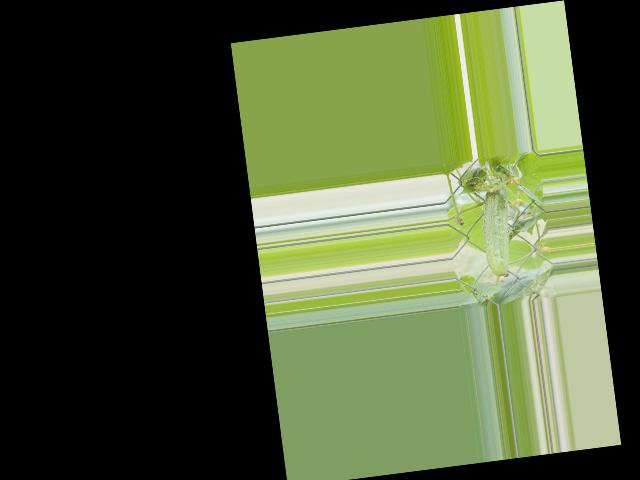cucumber: (477, 182, 517, 283)
